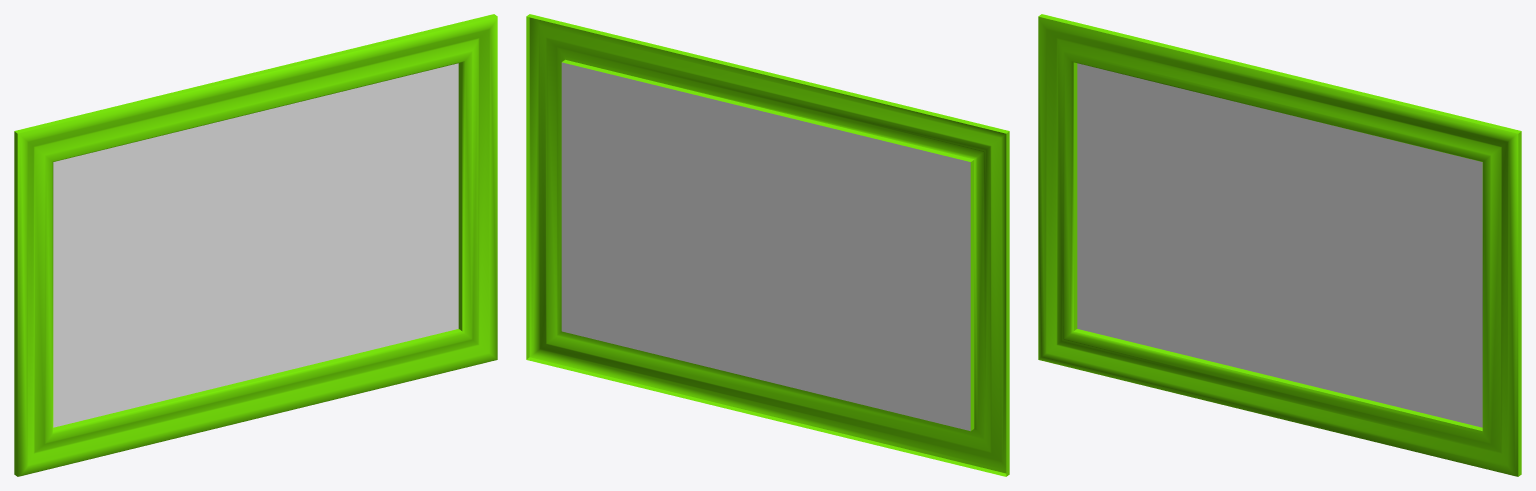
Rendered from painting_8_mesh.fbx.
The picture shows the model from 3 angles, left to right: view 1: azimuth 30°, elevation 25°; view 2: azimuth 150°, elevation 25°; view 3: azimuth 330°, elevation 25°; orthographic projection.
Parts seen in each view (by area): view 1: painting; view 2: painting; view 3: painting.
Part boxes in pixels (x1,y1,x2,y2): painting: (14, 14, 497, 476); painting: (526, 14, 1009, 476); painting: (1038, 14, 1521, 476).
Size of the model in its own units: 1.17 by 0.8013 by 0.02.
